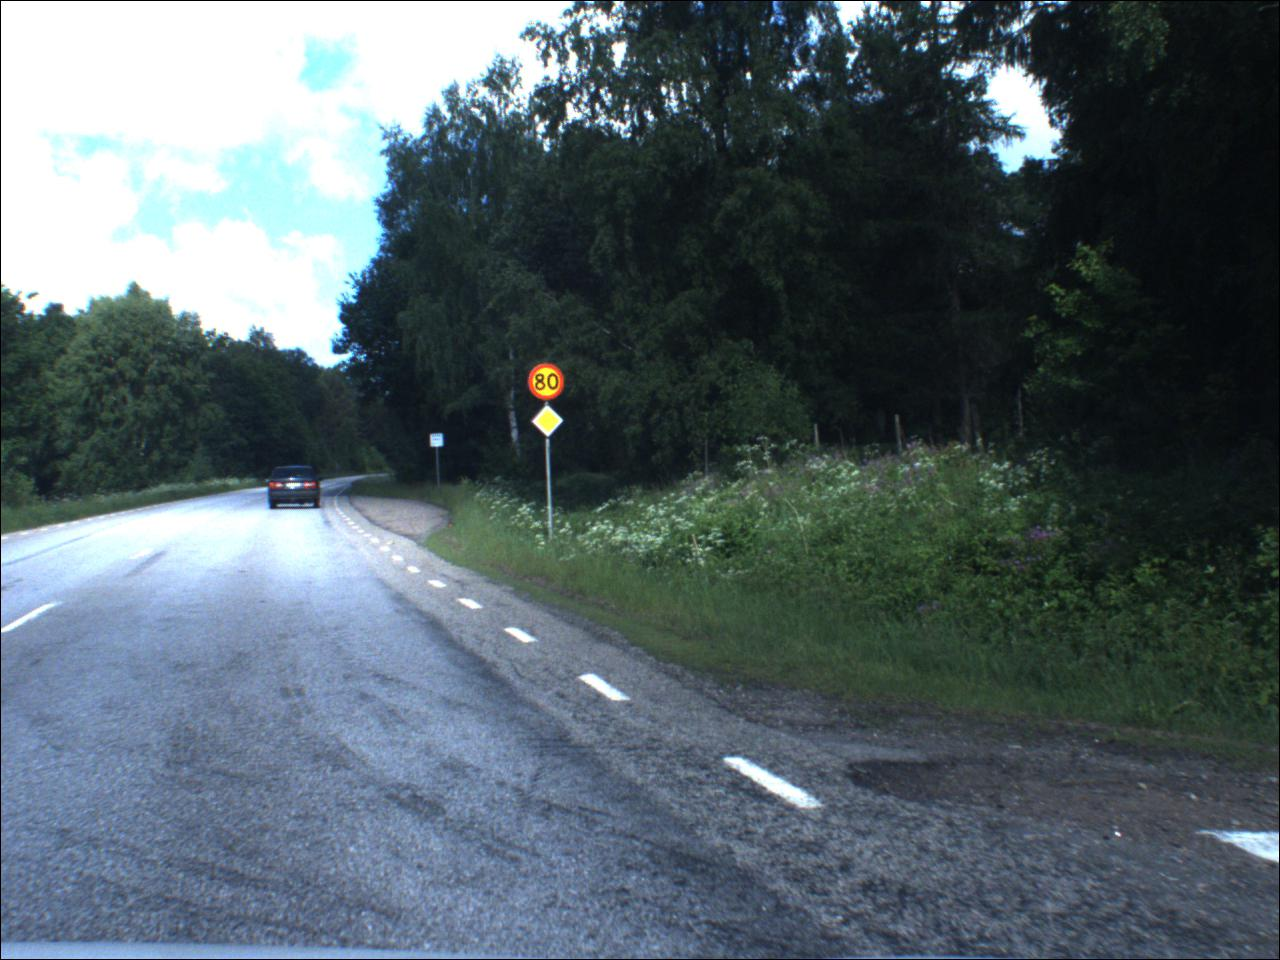80_SIGN: (530, 365, 566, 403)
PRIORITY_ROAD: (532, 406, 568, 441)
